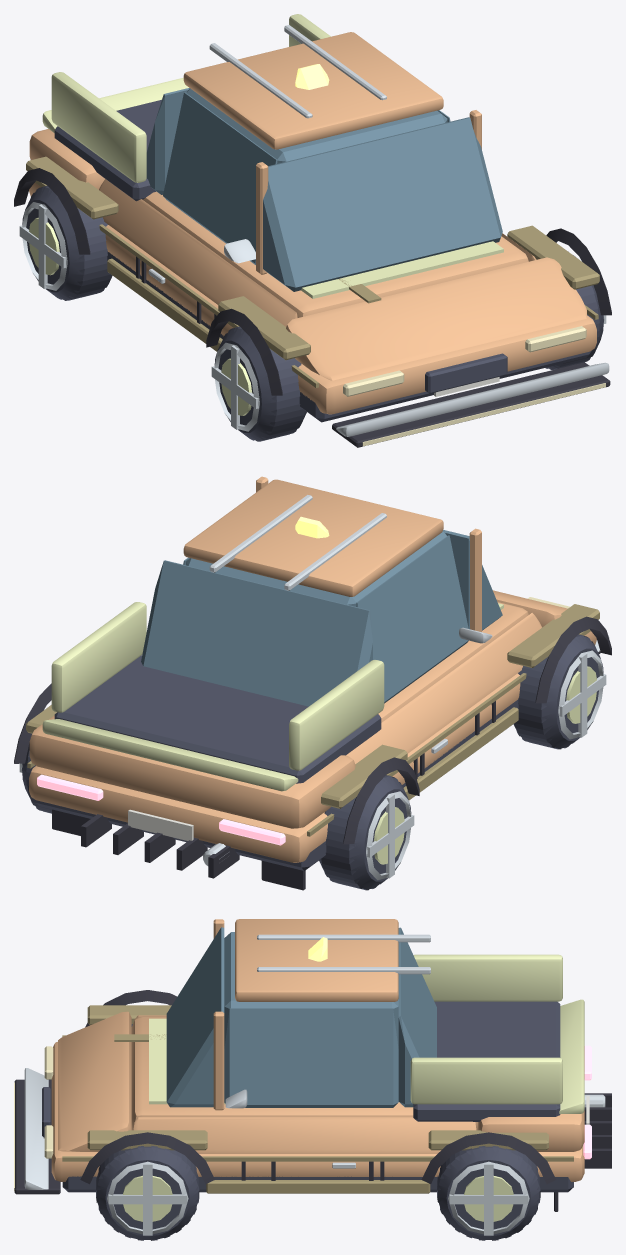
Rendered from plaza_pickup.fbx.
The picture shows the model from 3 angles, top to bottom: view 1: azimuth 30°, elevation 25°; view 2: azimuth 150°, elevation 25°; view 3: azimuth 270°, elevation 25°; orthographic projection. The views are drawn at different scales.
Parts seen in each view (by area): view 1: Body, Glass, Accent3, Accent, Trim, Trim2, Accent2, Wheel_FR, Wheel_RR, Metal, Light, Metal2 (+2 smaller); view 2: Body, Glass, Trim2, Accent3, Trim, Accent, Metal, Wheel_RR, Wheel_FR, Accent2, Light2, Metal2 (+1 smaller); view 3: Body, Glass, Accent3, Trim2, Accent, Trim, Metal, Accent2, Wheel_FL, Wheel_RL, Metal2, Light (+1 smaller).
Boxes of the visible parts, bbox=[...] form: Body: bbox=[29, 32, 596, 414]; Glass: bbox=[146, 88, 502, 291]; Accent3: bbox=[42, 14, 503, 298]; Accent: bbox=[26, 156, 599, 387]; Trim: bbox=[14, 168, 611, 447]; Trim2: bbox=[54, 99, 591, 422]; Accent2: bbox=[209, 25, 609, 436]; Wheel_FR: bbox=[214, 326, 306, 441]; Wheel_RR: bbox=[22, 186, 112, 300]; Metal: bbox=[19, 202, 606, 431]; Light: bbox=[343, 326, 605, 446]; Metal2: bbox=[29, 217, 252, 415]; Body: bbox=[29, 476, 596, 862]; Glass: bbox=[141, 530, 502, 706]; Trim2: bbox=[34, 655, 518, 870]; Accent3: bbox=[42, 602, 503, 791]; Trim: bbox=[14, 616, 611, 890]; Accent: bbox=[26, 604, 599, 836]; Metal: bbox=[19, 650, 606, 880]; Wheel_RR: bbox=[319, 775, 411, 890]; Wheel_FR: bbox=[513, 634, 603, 749]; Accent2: bbox=[209, 495, 609, 651]; Light2: bbox=[37, 774, 285, 845]; Metal2: bbox=[373, 666, 596, 864]; Body: bbox=[51, 919, 584, 1181]; Glass: bbox=[166, 927, 436, 1107]; Accent3: bbox=[149, 954, 584, 1113]; Trim2: bbox=[42, 1001, 573, 1192]; Accent: bbox=[62, 1005, 573, 1193]; Trim: bbox=[14, 990, 611, 1211]; Metal: bbox=[107, 1094, 605, 1235]; Accent2: bbox=[24, 934, 430, 1189]; Wheel_FL: bbox=[96, 1146, 199, 1240]; Wheel_RL: bbox=[437, 1146, 540, 1240]; Metal2: bbox=[123, 1175, 513, 1221]; Light: bbox=[14, 1046, 53, 1191].
Size of the model in its own units: 3.3 by 2.33 by 5.5.
